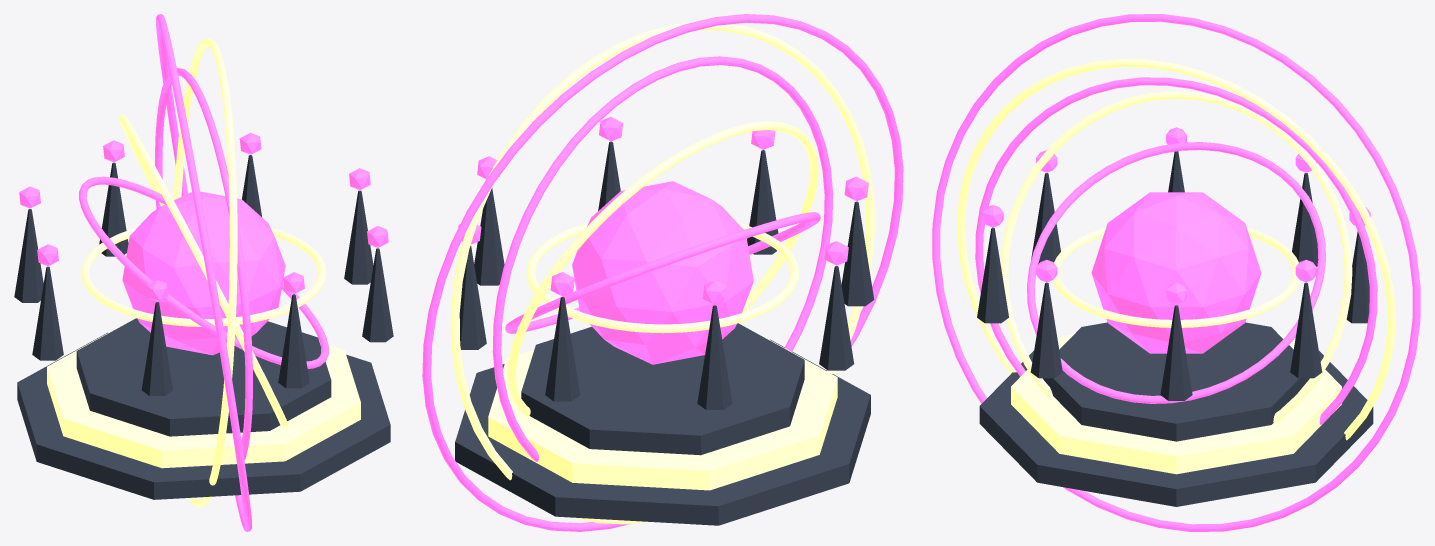
File: gpu-blender-v15.glb
The picture shows the model from 3 angles, left to right: view 1: azimuth 30°, elevation 25°; view 2: azimuth 150°, elevation 25°; view 3: azimuth 270°, elevation 25°; orthographic projection. The views are drawn at different scales.
Visible parts, largest first — view 1: Cylinder.002, Cylinder, SovereignCore_zoth-studio-v2, Cylinder.001, Torus.005, Torus.004, Torus.003, Torus.001, Torus, Torus.002, Cone.007, Cone.006 (+6 smaller); view 2: Cylinder.002, SovereignCore_zoth-studio-v2, Cylinder, Cylinder.001, Torus.005, Torus.004, Torus.003, Torus.002, Torus.001, Torus, Cone.004, Cone.002 (+6 smaller); view 3: SovereignCore_zoth-studio-v2, Cylinder.002, Cylinder, Cylinder.001, Torus.005, Torus.004, Torus.003, Torus.002, Torus.001, Torus, Cone.001, Cone.007 (+5 smaller).
Part boxes in pixels (x1,y1,x2,y2): Cylinder.002: [76, 318, 331, 436]; Cylinder: [17, 332, 390, 499]; SovereignCore_zoth-studio-v2: [122, 191, 285, 355]; Cylinder.001: [47, 325, 360, 468]; Torus.005: [156, 14, 251, 531]; Torus.004: [173, 38, 237, 507]; Torus.003: [155, 68, 252, 459]; Torus.001: [79, 176, 328, 368]; Torus: [81, 227, 326, 326]; Torus.002: [118, 114, 287, 426]; Cone.007: [362, 248, 393, 342]; Cone.006: [278, 294, 309, 388]; Cylinder.002: [521, 323, 804, 455]; SovereignCore_zoth-studio-v2: [572, 181, 753, 364]; Cylinder: [455, 339, 870, 525]; Cylinder.001: [488, 330, 837, 490]; Torus.005: [422, 14, 903, 531]; Torus.004: [451, 22, 874, 524]; Torus.003: [492, 56, 833, 461]; Torus.002: [507, 121, 818, 416]; Torus.001: [505, 212, 820, 333]; Torus: [526, 222, 799, 333]; Cone.004: [819, 266, 854, 370]; Cone.002: [545, 297, 580, 401]; SovereignCore_zoth-studio-v2: [1091, 192, 1261, 353]; Cylinder.002: [1043, 322, 1309, 441]; Cylinder: [979, 351, 1373, 506]; Cylinder.001: [1011, 334, 1341, 474]; Torus.005: [932, 14, 1420, 531]; Torus.004: [957, 59, 1395, 440]; Torus.003: [975, 77, 1377, 424]; Torus.002: [1001, 91, 1352, 423]; Torus.001: [1027, 142, 1325, 403]; Torus: [1053, 227, 1299, 327]; Cone.001: [1290, 282, 1322, 378]; Cone.007: [1030, 282, 1062, 378].
Size of the model in its own units: 4.41 by 5.93 by 5.46.
